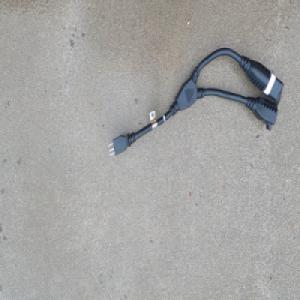Wire: (106, 44, 284, 159)
